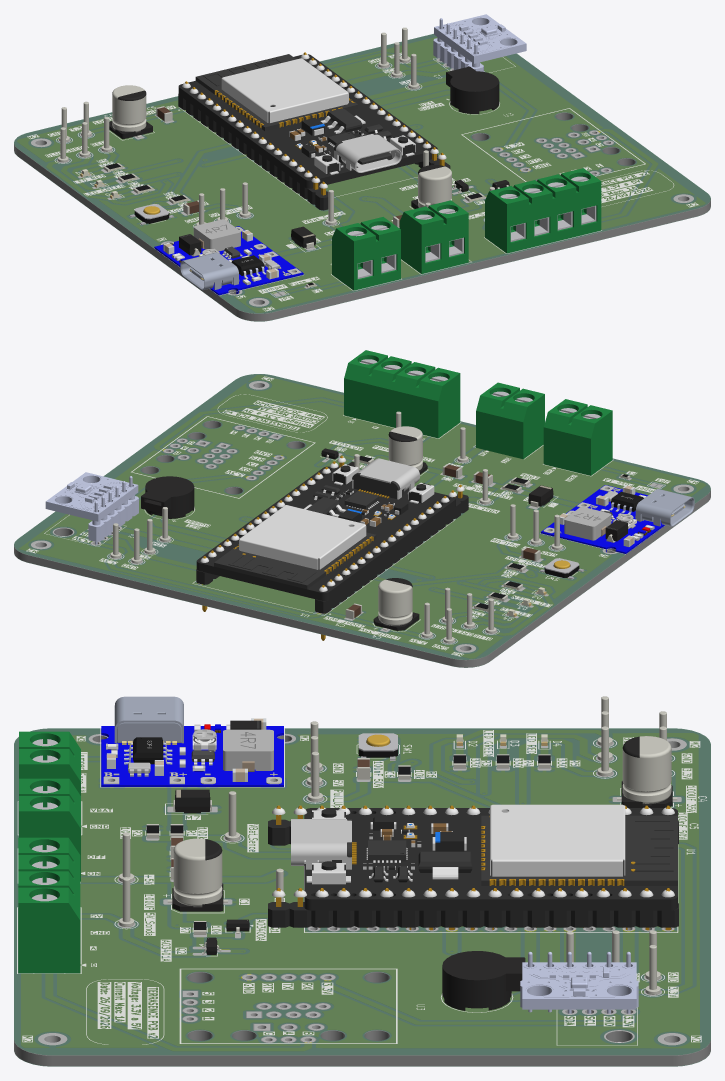
Rendered from placa.glb.
The picture shows the model from 3 angles, top to bottom: view 1: azimuth 30°, elevation 25°; view 2: azimuth 150°, elevation 25°; view 3: azimuth 270°, elevation 25°; orthographic projection. The views are drawn at different scales.
Parts seen in each view (by area): view 1: =>[0:1:1:21], =>[0:1:1:17], =>[0:1:1:22], cuerpo (×3), Body121, =>[0:1:1:20], Body004, NAUO1, =>[0:1:1:18], BZ1, Array009, Body (+12 smaller); view 2: =>[0:1:1:21], =>[0:1:1:17], cuerpo (×3), =>[0:1:1:22], =>[0:1:1:20], Body121, Body004, =>[0:1:1:18], Body, NAUO1, Array009, BZ1 (+10 smaller); view 3: =>[0:1:1:21], =>[0:1:1:17], =>[0:1:1:22], Body121, cuerpo (×3), =>[0:1:1:20], Body004, Array013, =>[0:1:1:18], Body, NAUO1, LX-LCBST Board (+16 smaller).
Boxes of the visible parts, bbox=[...] form: =>[0:1:1:21]: bbox=[14, 33, 710, 321]; =>[0:1:1:17]: bbox=[17, 37, 704, 312]; =>[0:1:1:22]: bbox=[14, 34, 710, 321]; cuerpo (×3): bbox=[332, 168, 601, 290]; Body121: bbox=[178, 54, 437, 188]; =>[0:1:1:20]: bbox=[27, 52, 698, 311]; Body004: bbox=[221, 58, 348, 122]; NAUO1: bbox=[434, 14, 526, 63]; =>[0:1:1:18]: bbox=[31, 58, 693, 306]; BZ1: bbox=[446, 66, 499, 113]; Array009: bbox=[178, 94, 328, 210]; Body: bbox=[195, 54, 358, 131]; =>[0:1:1:21]: bbox=[14, 374, 710, 667]; =>[0:1:1:17]: bbox=[20, 375, 705, 658]; cuerpo (×3): bbox=[344, 350, 612, 475]; =>[0:1:1:22]: bbox=[14, 374, 710, 667]; =>[0:1:1:20]: bbox=[26, 376, 699, 656]; Body121: bbox=[196, 466, 455, 600]; Body004: bbox=[239, 505, 366, 569]; =>[0:1:1:18]: bbox=[31, 381, 693, 652]; Body: bbox=[214, 532, 376, 589]; NAUO1: bbox=[45, 472, 138, 521]; Array009: bbox=[315, 494, 468, 613]; BZ1: bbox=[141, 476, 194, 518]; =>[0:1:1:21]: bbox=[14, 728, 710, 1066]; =>[0:1:1:17]: bbox=[21, 730, 699, 1050]; =>[0:1:1:22]: bbox=[14, 729, 710, 1066]; Body121: bbox=[304, 808, 677, 910]; cuerpo (×3): bbox=[18, 731, 80, 973]; =>[0:1:1:20]: bbox=[17, 728, 706, 1045]; Body004: bbox=[490, 804, 625, 876]; Array013: bbox=[268, 902, 678, 927]; =>[0:1:1:18]: bbox=[38, 734, 686, 1045]; Body: bbox=[481, 815, 677, 885]; NAUO1: bbox=[522, 962, 636, 1009]; LX-LCBST Board: bbox=[101, 726, 283, 786].
Bounding box in the file's own units: 0.1019 × 0.0158 × 0.09.
